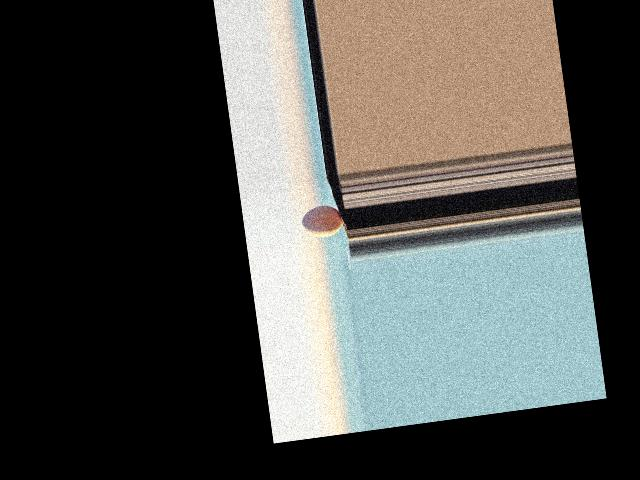egg: (300, 203, 343, 240)
